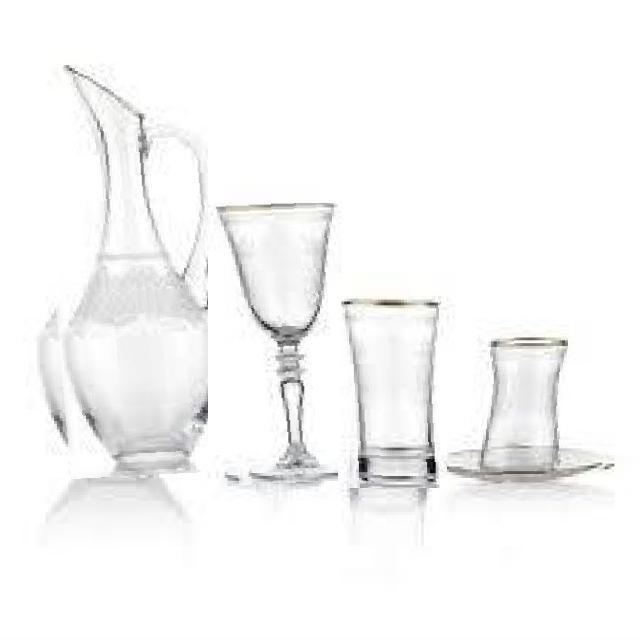Glass: (34, 62, 208, 480), (214, 204, 338, 486), (447, 333, 617, 486), (338, 296, 440, 488)
